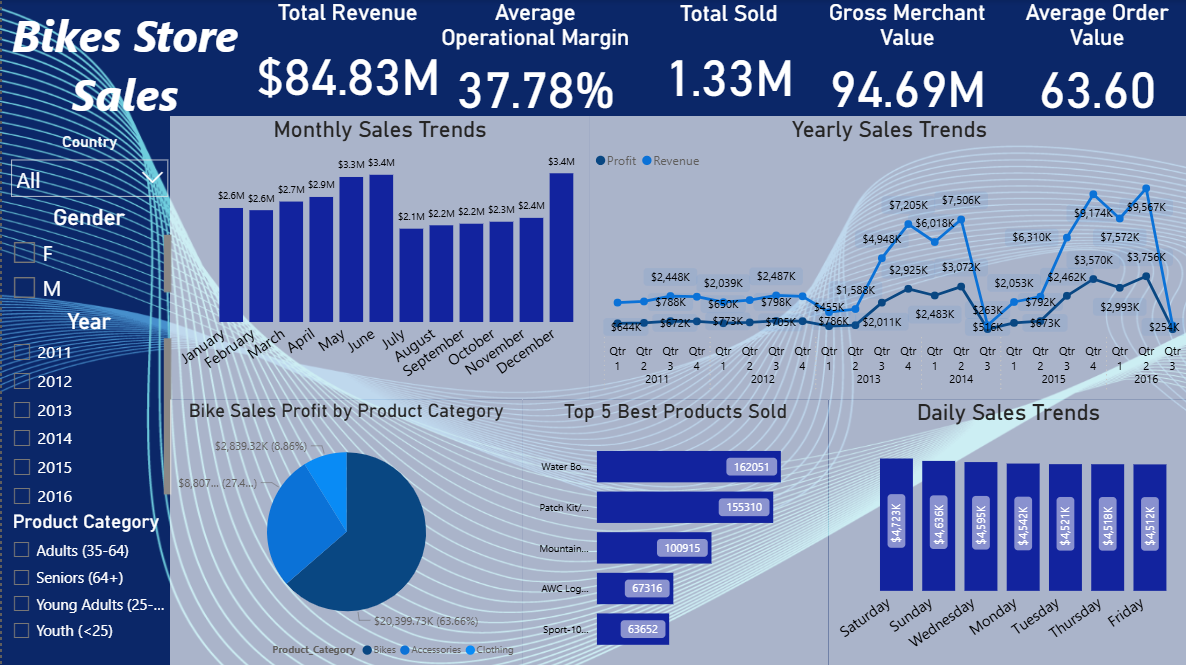

This screenshot's page, from the dashboard's own definition file:
{"tool":"powerbi","page":{"name":"Page 1","canvas":[1280,720],"ordinal":0},"visuals":[{"type":"columnChart","title":"Monthly Sales Trends","fields":{"Category":["Calendar.Date.Variation.Date Hierarchy.Month"],"Y":["Sum(Bikes_Sales.Profit)"]},"box":[181.4,126.3,453.4,306],"z":0},{"type":"slicer","title":"Country","fields":{"Values":["sales2 Bikes_Sales.Country"]},"box":[0,144.1,189.4,77.7],"z":1000},{"type":"slicer","title":"Year","fields":{"Values":["Calendar.Date.Variation.Date Hierarchy.Year"]},"box":[0,333.6,187.8,218.6],"z":2000},{"type":"pieChart","title":"Bike Sales Profit by Product Category","fields":{"Y":["Sum(sales2 Bikes_Sales.Profit)"],"Category":["Bikes_Sales.Product_Category"]},"box":[181.4,432.3,380.5,288.2],"z":3000},{"type":"card","title":"Total Revenue","fields":{"Values":["Sum(Bikes_Sales.Revenue)"]},"box":[265.6,0,215.4,126.3],"z":4000},{"type":"card","title":"Total Sold","fields":{"Values":["Sum(Bikes_Sales.Order_Quantity)"]},"box":[683.3,1.6,202.4,126.3],"z":5000},{"type":"card","title":"Average Operational Margin","fields":{"Values":["Bikes_Sales.AOM"]},"box":[468,0,215.4,127.9],"z":6000},{"type":"card","title":"Gross Merchant Value","fields":{"Values":["Bikes_Sales.GMV"]},"box":[869.5,0,215.4,126.3],"z":7000},{"type":"barChart","title":"Top 5 Best Products Sold","fields":{"Category":["sales2 Bikes_Sales.Product"],"Y":["Sum(Bikes_Sales.Order_Quantity)"]},"box":[561.9,432.3,330.3,288.2],"z":8000},{"type":"columnChart","title":"Daily Sales Trends","fields":{"Category":["sales2 Bikes_Sales.Day_Name"],"Y":["Sum(Bikes_Sales.Profit)"]},"box":[892.2,432.3,388.6,288.2],"z":9000},{"type":"slicer","title":"Gender","fields":{"Values":["sales2 Bikes_Sales.Customer_Gender"]},"box":[0,221.8,187.8,111.7],"z":10000},{"type":"slicer","title":"Product Category","fields":{"Values":["Bikes_Sales.Age_Group"]},"box":[0,552.2,181.4,168.4],"z":11000},{"type":"card","title":"Average Order Value","fields":{"Values":["sales2 Bikes_Sales.AOV"]},"box":[1084.9,0,194.3,127.9],"z":12000},{"type":"textbox","box":[0,0,265.6,144.1],"z":13000},{"type":"lineChart","title":"Yearly Sales Trends","fields":{"Category":["Calendar.Date.Variation.Date Hierarchy.Year","Calendar.Date.Variation.Date Hierarchy.Quarter"],"Y":["Sum(Bikes_Sales.Profit)","Sum(Bikes_Sales.Revenue)"]},"box":[634,126,646,306],"z":14000}]}

Visuals, with their boxes in screenshot pixels (x1, y1, x2, y2), scaled from the page's 1280x720 canvas onto the 1186x665 screenshot:
"Monthly Sales Trends" columnChart: bbox=[168, 117, 588, 399]
"Country" slicer: bbox=[0, 133, 175, 205]
"Year" slicer: bbox=[0, 308, 174, 510]
"Bike Sales Profit by Product Category" pieChart: bbox=[168, 399, 521, 664]
"Total Revenue" card: bbox=[246, 0, 446, 117]
"Total Sold" card: bbox=[633, 1, 821, 118]
"Average Operational Margin" card: bbox=[434, 0, 633, 118]
"Gross Merchant Value" card: bbox=[806, 0, 1005, 117]
"Top 5 Best Products Sold" barChart: bbox=[521, 399, 827, 664]
"Daily Sales Trends" columnChart: bbox=[827, 399, 1185, 664]
"Gender" slicer: bbox=[0, 205, 174, 308]
"Product Category" slicer: bbox=[0, 510, 168, 664]
"Average Order Value" card: bbox=[1005, 0, 1185, 118]
textbox: bbox=[0, 0, 246, 133]
"Yearly Sales Trends" lineChart: bbox=[587, 116, 1185, 399]
